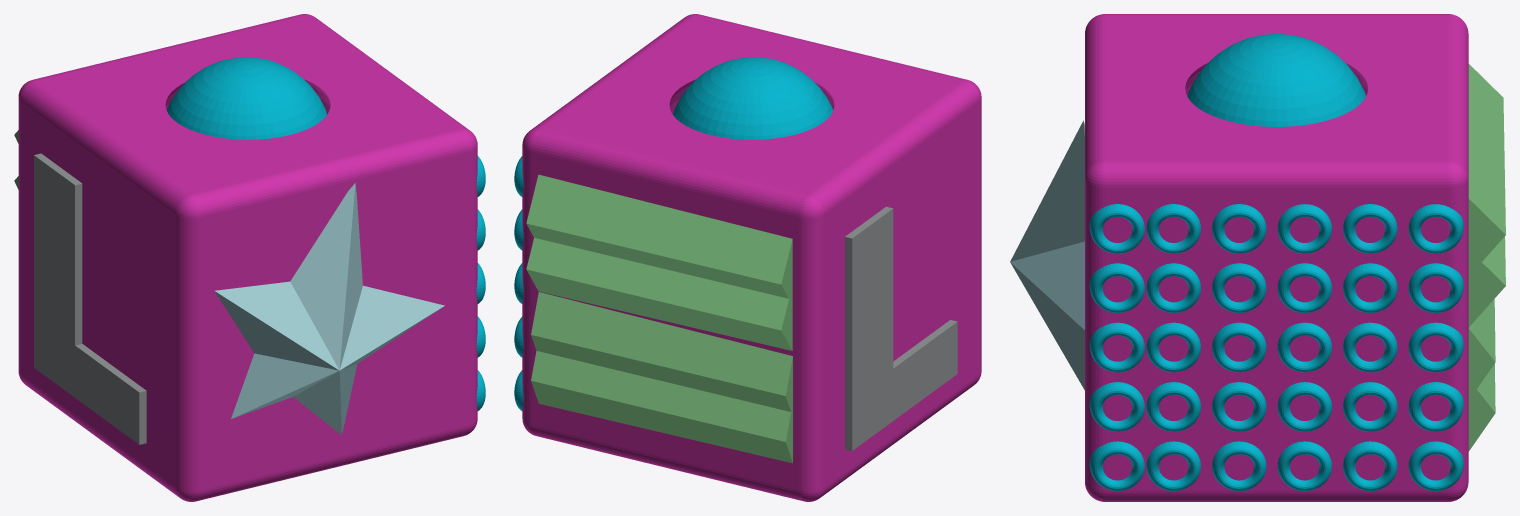
File: Luna J Monday combo rose quartz.glb
The picture shows the model from 3 angles, left to right: view 1: azimuth 30°, elevation 25°; view 2: azimuth 150°, elevation 25°; view 3: azimuth 270°, elevation 25°; orthographic projection. The views are drawn at different scales.
Parts seen in each view (by area): view 1: Mesh_Mesh_head_geo.001_lambert2SG.001; view 2: Mesh_Mesh_head_geo.001_lambert2SG.001; view 3: Mesh_Mesh_head_geo.001_lambert2SG.001.
Part boxes in pixels (bbox=[...]): Mesh_Mesh_head_geo.001_lambert2SG.001: bbox=[14, 14, 485, 501]; Mesh_Mesh_head_geo.001_lambert2SG.001: bbox=[514, 14, 981, 501]; Mesh_Mesh_head_geo.001_lambert2SG.001: bbox=[1010, 14, 1505, 501].
Size of the model in its own units: 0.043 by 0.0456 by 0.053.
